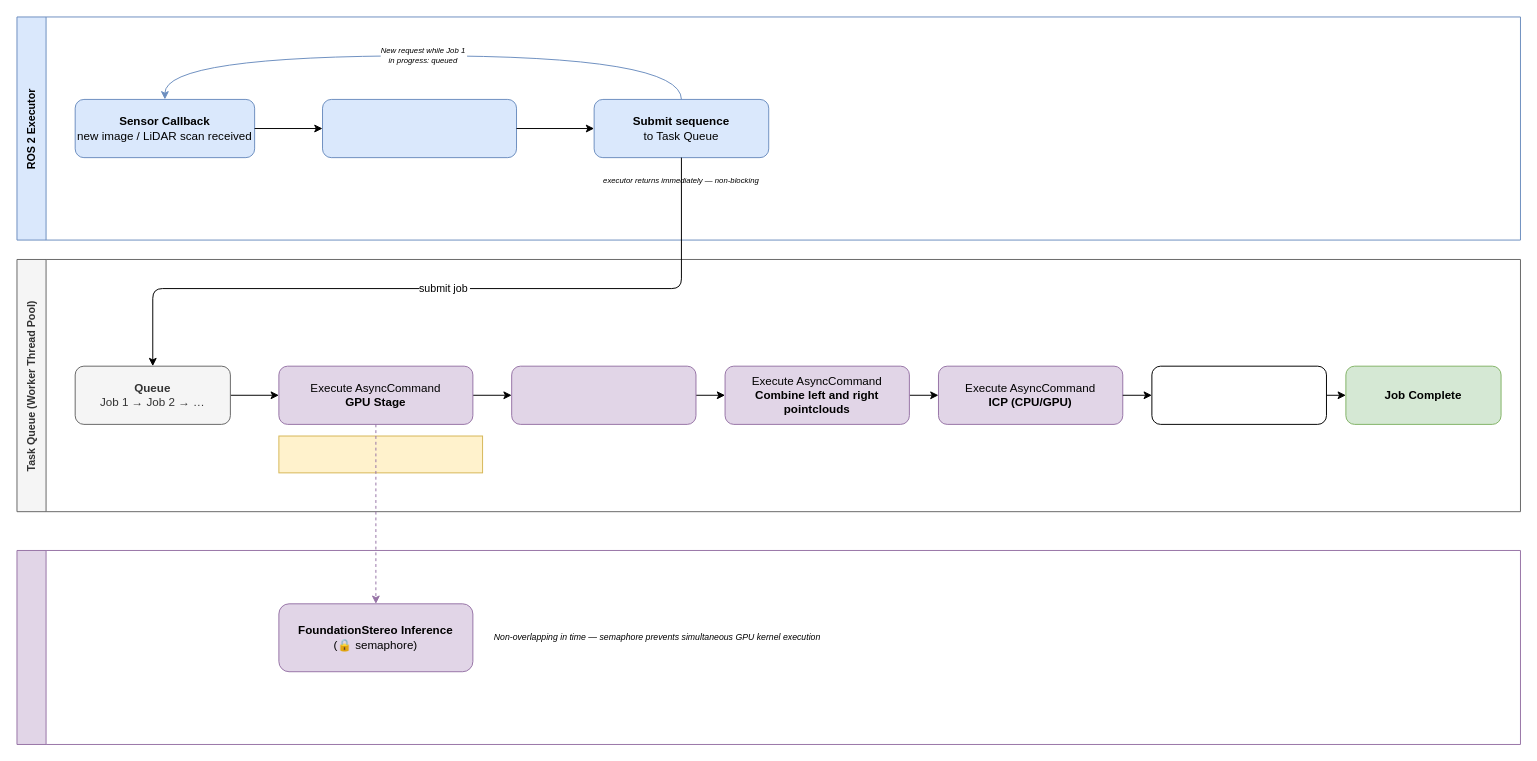
Image size: 1537x761. Some labels were removed from this diagram. The box of each missing label's shape, as (x1, y1, x2, y2) in pixels:
Create AsyncCommand sequence for modality: (322, 98, 517, 158)
Execute AsyncCommand Pointcloud Processing: (511, 365, 696, 424)
Execute AsyncCommand Pose Correction: (1151, 365, 1326, 424)
GPU: (16, 550, 1520, 744)
🔒 GPU Semaphore: max 1 concurrent GPU job: (278, 435, 483, 473)
